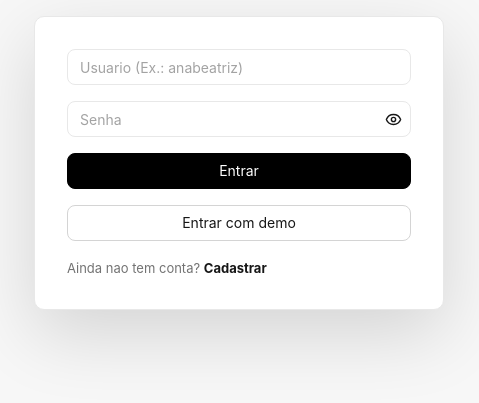
Test: LoginView › shows invalid credential errors without navigating
Type "anabeatriz" into the field labelled "Usuario" at coordinates (239, 67), box [67, 49, 411, 85]
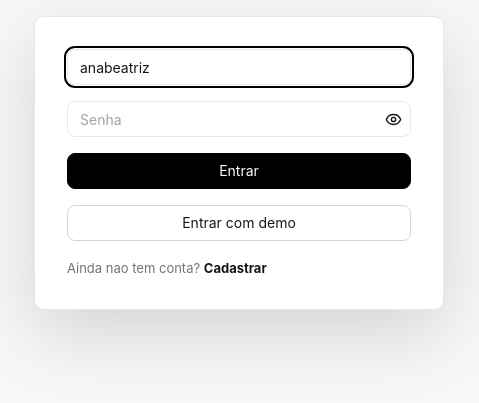
Type "errada" into the password field labelled "Senha" at coordinates (239, 119), box [67, 101, 411, 137]
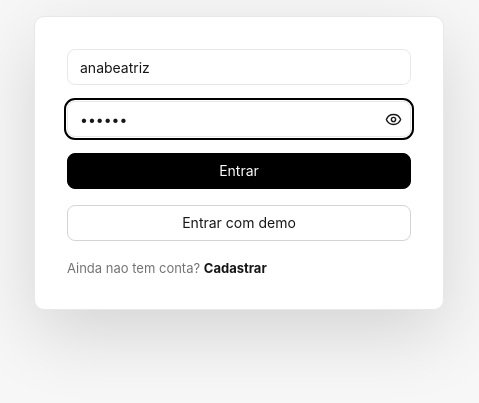
Click the button "Entrar" at coordinates (239, 171), box [67, 153, 411, 189]
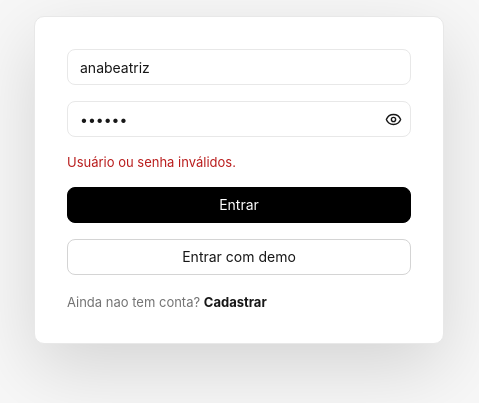
Result: the message reads "Usuário ou senha inválidos." at [67, 154, 236, 170]
